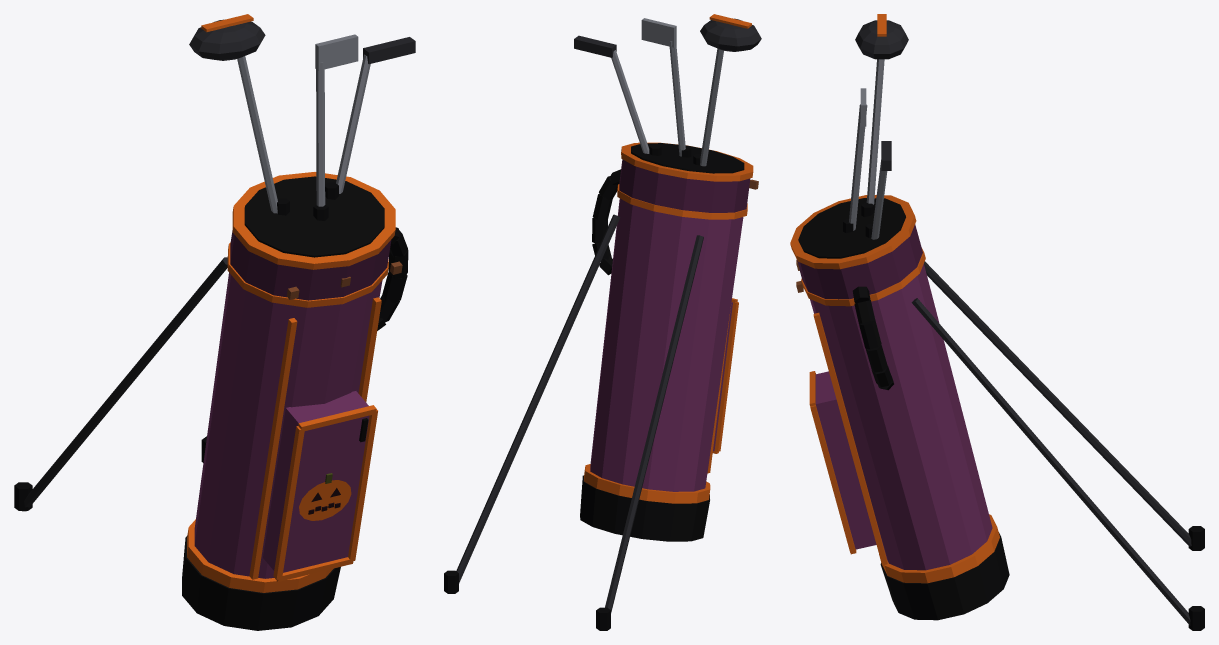
Rendered from bag.glb.
The picture shows the model from 3 angles, left to right: view 1: azimuth 30°, elevation 25°; view 2: azimuth 150°, elevation 25°; view 3: azimuth 270°, elevation 25°; orthographic projection. The views are drawn at different scales.
Parts seen in each view (by area): view 1: Bag; view 2: Bag; view 3: Bag.
Part boxes in pixels (left/top/right/bottom): Bag: left=14, top=14, right=415, bottom=630; Bag: left=444, top=14, right=761, bottom=630; Bag: left=790, top=14, right=1204, bottom=630.
Bounding box in the file's own units: 0.4723 × 1.28 × 0.878.
